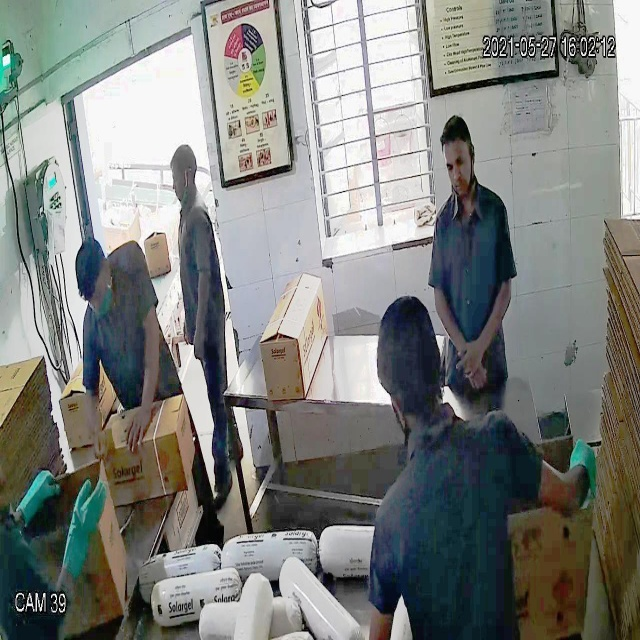Sin_gafas: (442, 146, 478, 179)
